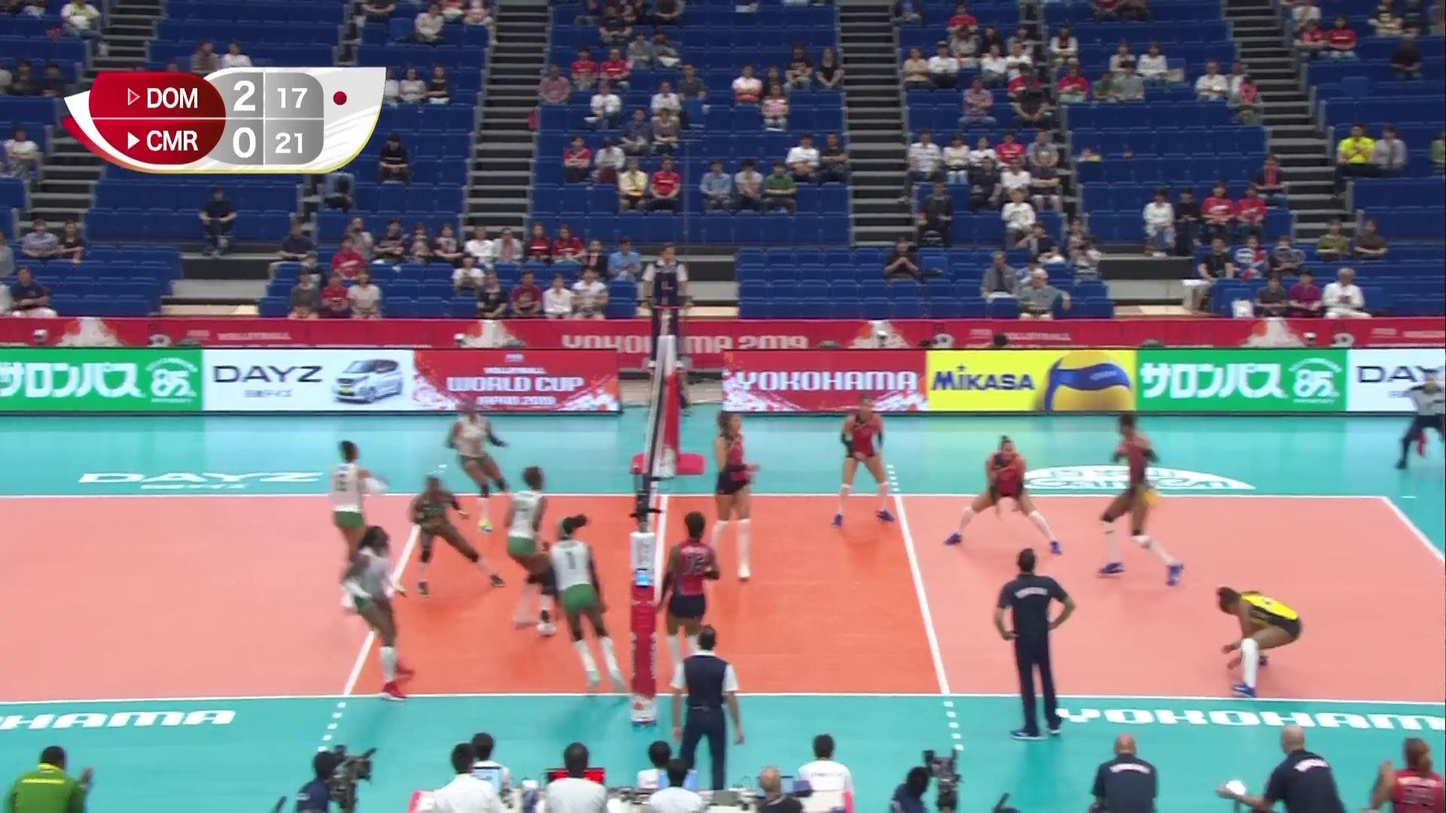player: (544, 514, 623, 702), (1100, 414, 1183, 584), (948, 437, 1065, 549), (345, 527, 416, 701), (408, 476, 507, 590), (327, 441, 391, 613), (663, 511, 721, 692), (1218, 589, 1307, 697), (446, 404, 521, 530), (504, 468, 558, 638), (706, 411, 758, 582), (833, 394, 895, 528)
refree: (671, 628, 742, 794), (1391, 366, 1446, 472), (644, 246, 688, 365)
